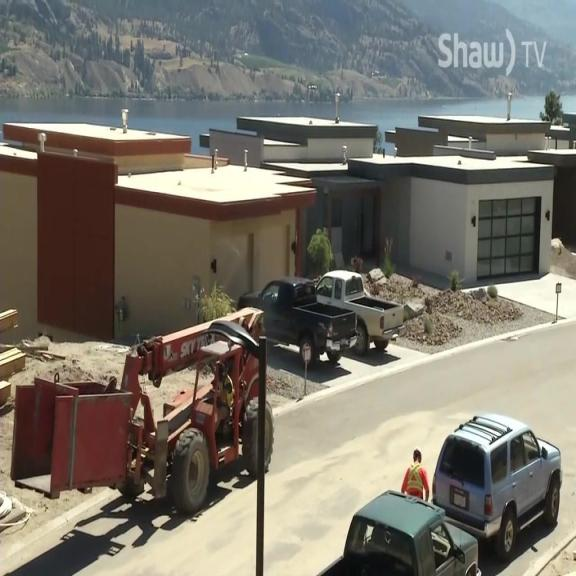safety_vest: (406, 462, 425, 500)
